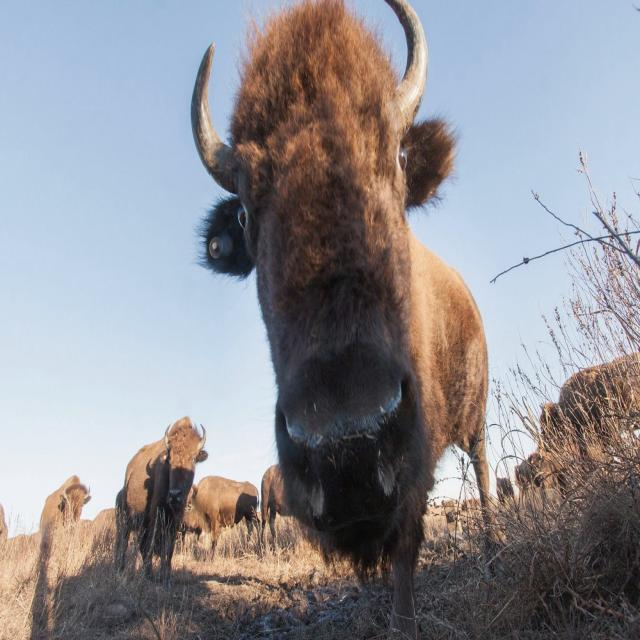bison: (192, 0, 489, 639), (116, 417, 208, 568)
